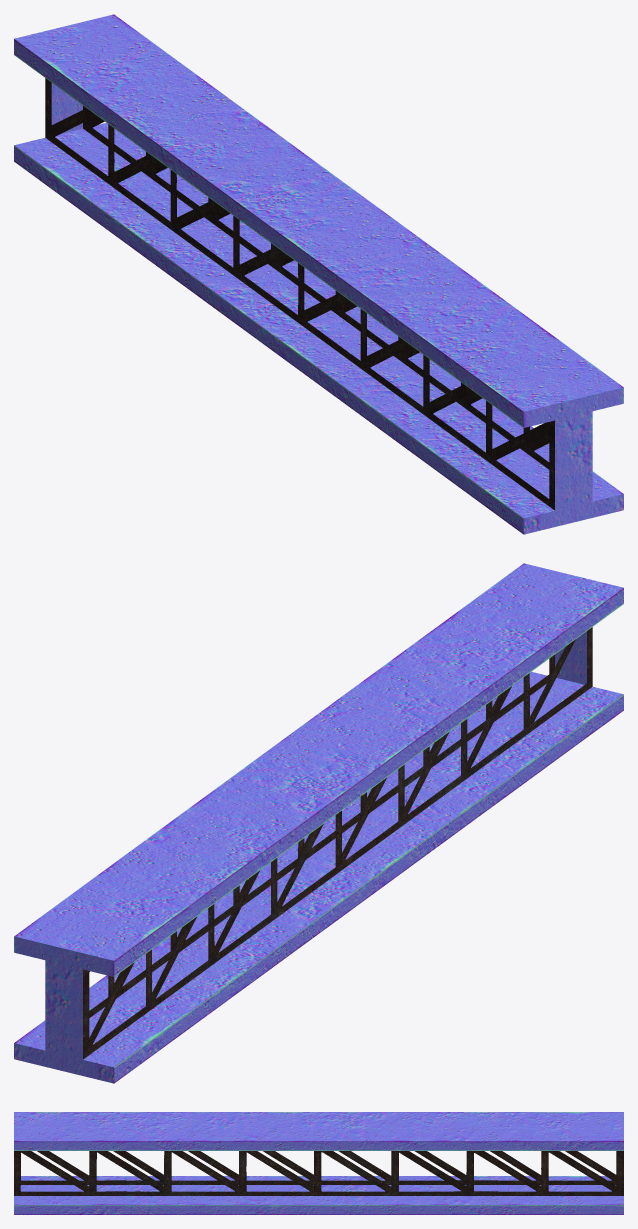
Rendered from scaffold.fbx.
3 views of the same model, one above another, from view 1: azimuth 30°, elevation 25°; view 2: azimuth 150°, elevation 25°; view 3: azimuth 270°, elevation 25° (orthographic). The views are drawn at different scales.
Visible parts, largest first — view 1: scaffold; view 2: scaffold; view 3: scaffold.
Boxes of the visible parts, bbox=[...] form: scaffold: bbox=[14, 14, 623, 534]; scaffold: bbox=[14, 563, 623, 1083]; scaffold: bbox=[14, 1112, 623, 1214].
Bounding box in the file's own units: 74.76 × 87.52 × 659.
